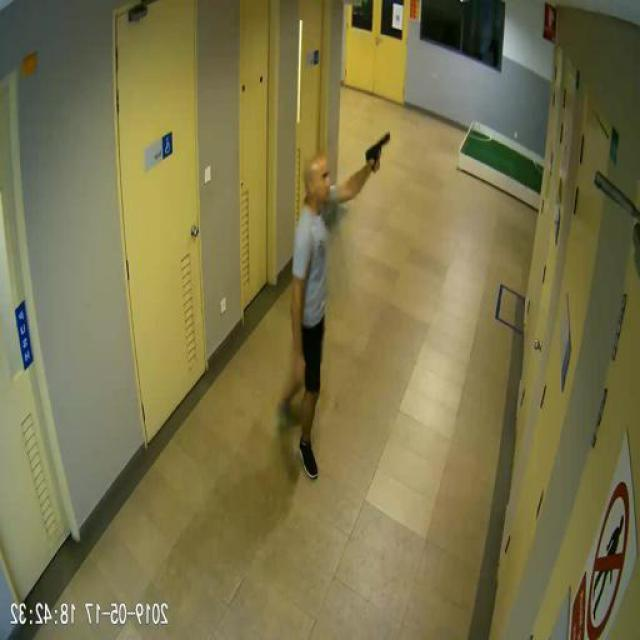weapon: (364, 136, 396, 174)
